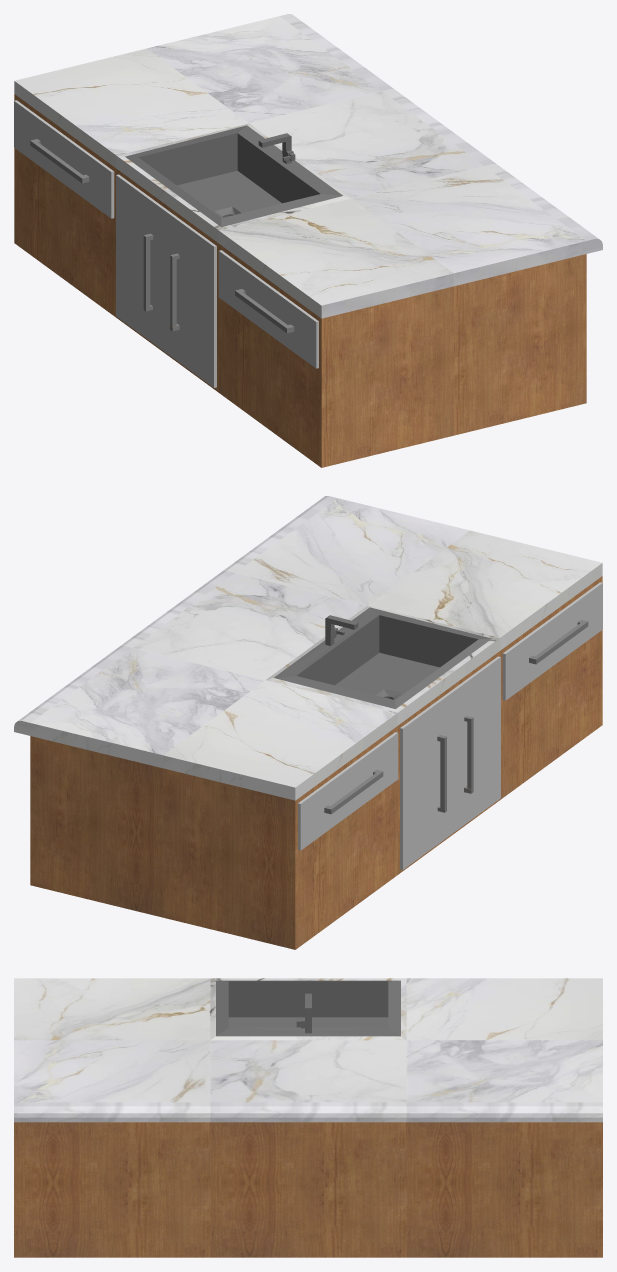
Rendered from middlecounter.fbx.
3 renders of one model, top to bottom at view 1: azimuth 30°, elevation 25°; view 2: azimuth 150°, elevation 25°; view 3: azimuth 270°, elevation 25°, orthographic. The views are drawn at different scales.
Parts seen in each view (by area): view 1: Cube.001; view 2: Cube.001; view 3: Cube.001.
Boxes of the visible parts, x1,y1,x2,y2 form: Cube.001: (14,14,602,467); Cube.001: (14,496,602,949); Cube.001: (14,978,602,1257).
Size of the model in its own units: 263 by 165 by 480.
5 materials, 2 textured.
